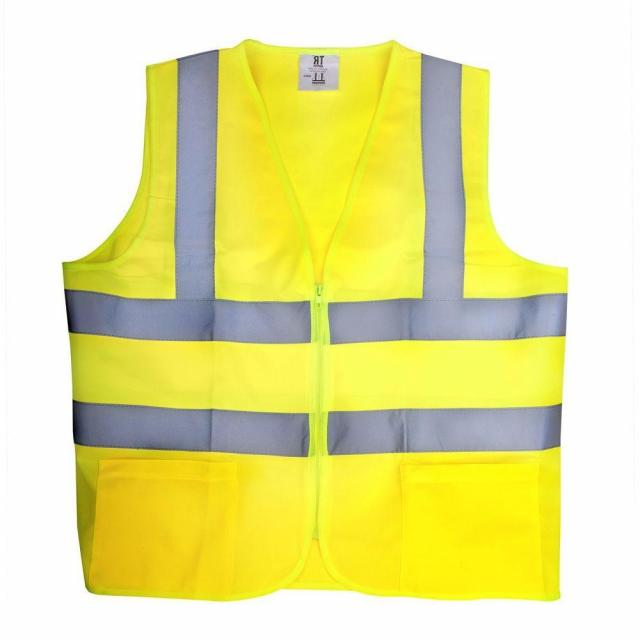Reflective-Jacket: (23, 26, 598, 615)
